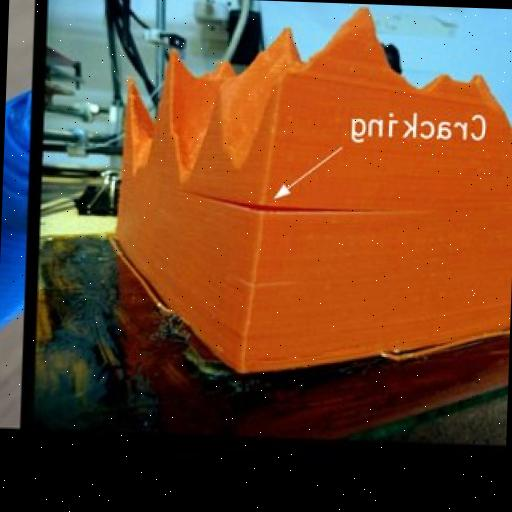cracks: (180, 186, 337, 240)
